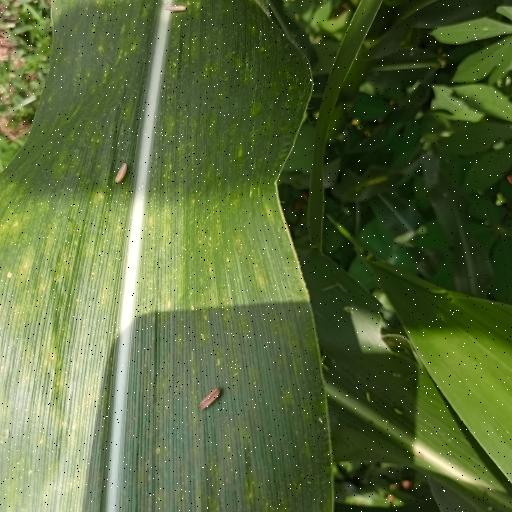Corn_Brown_Spots: (0, 10, 312, 512)
